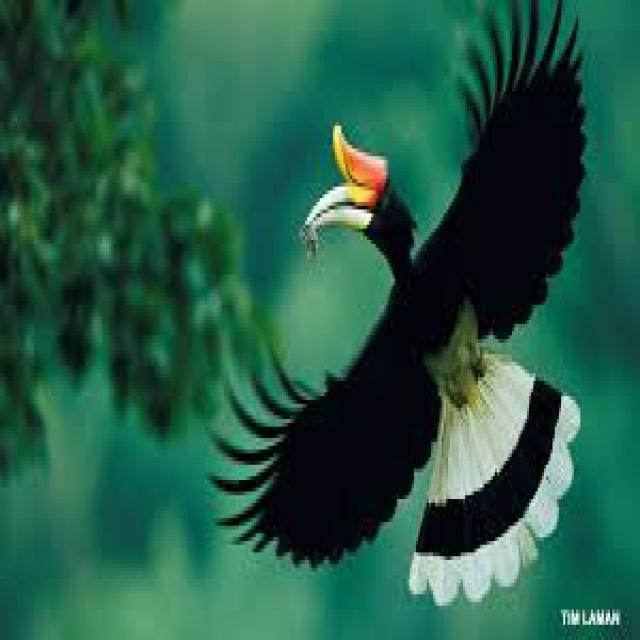Hornbill: (237, 44, 583, 594)
